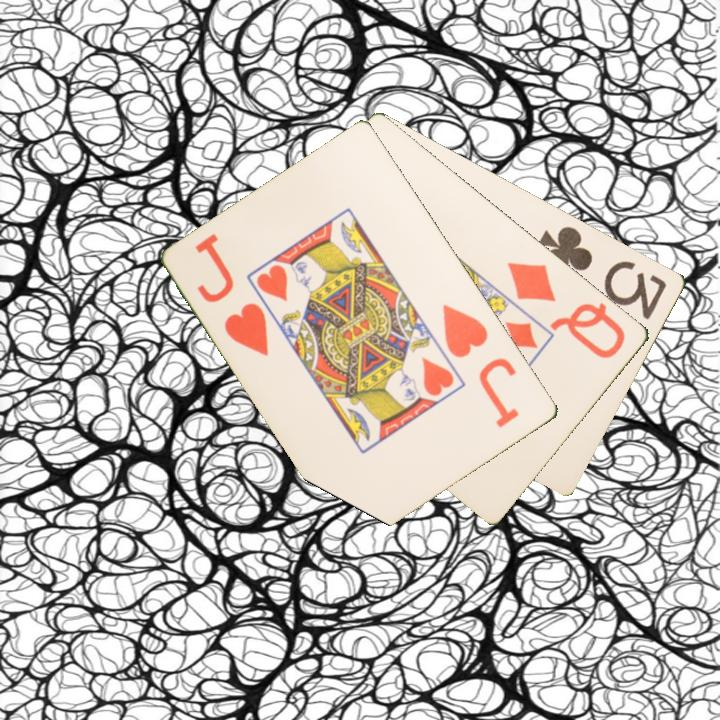3c: (534, 222, 671, 323)
Jh: (439, 300, 523, 431), (221, 299, 273, 360)
Qd: (504, 258, 629, 362)
